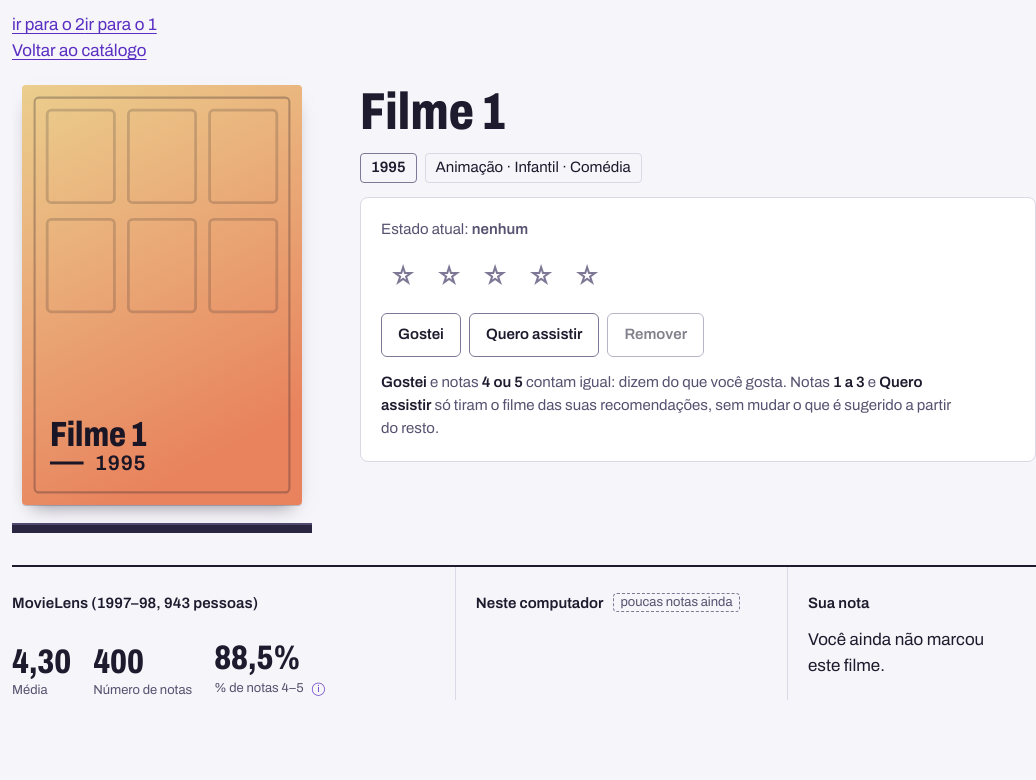
it: DetalheFilme: "Neste computador" depois de uma escrita › falha da recarga: os números anteriores ficam e o filme continua na tela
The width and height of the screenshot is (1036, 780).
Expected: the heading "Filme 1" is shown, left=360, top=83, right=506, bottom=140
Click the radio button named "4 de 5 estrelas": (541, 277) left=519, top=255, right=563, bottom=299
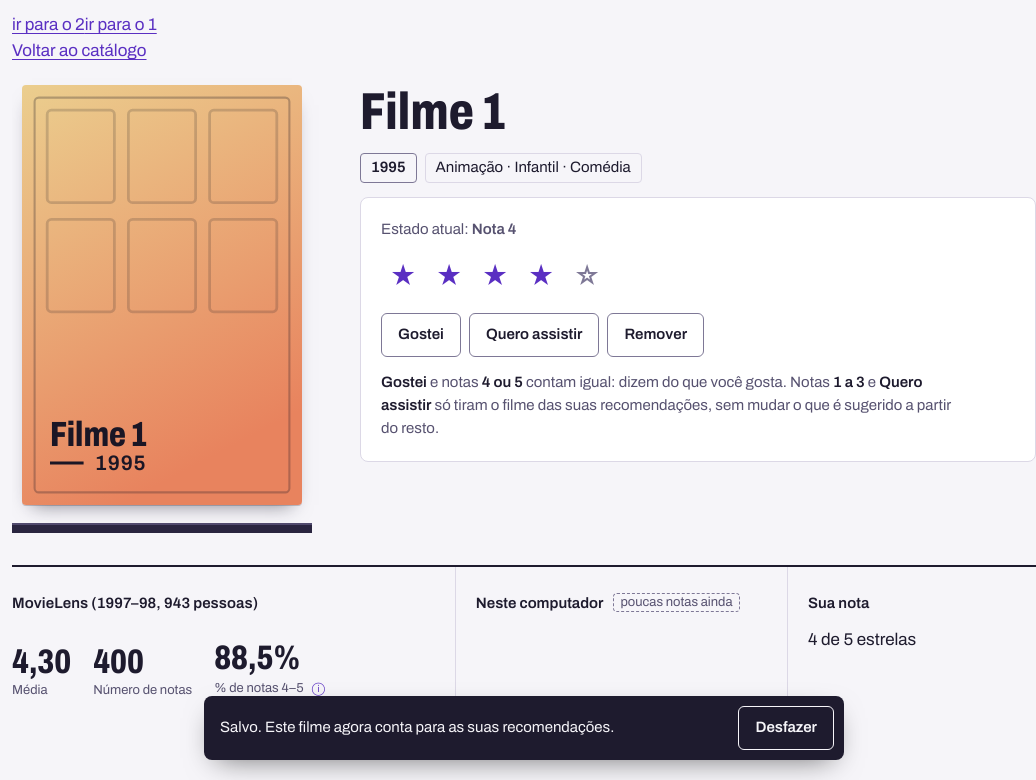
Expected: the heading "Filme 1" is shown, left=360, top=83, right=506, bottom=140
Expected: the text "Estado atual:" shows "4", left=472, top=220, right=516, bottom=236
